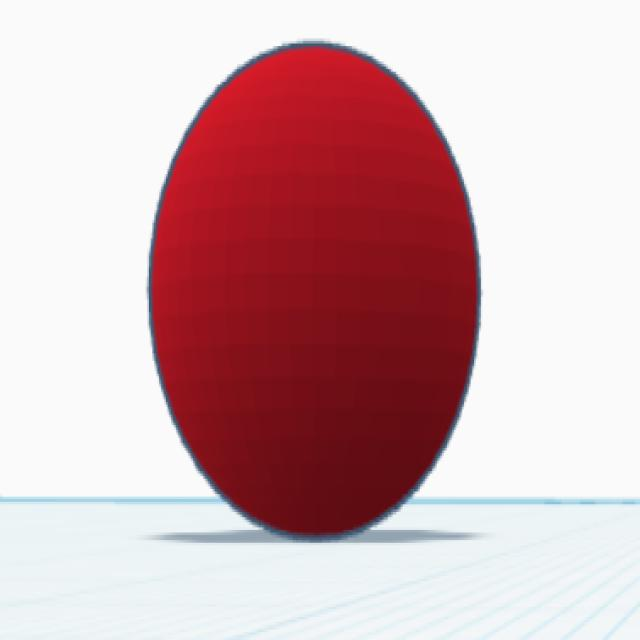sphere: (146, 39, 483, 543)
